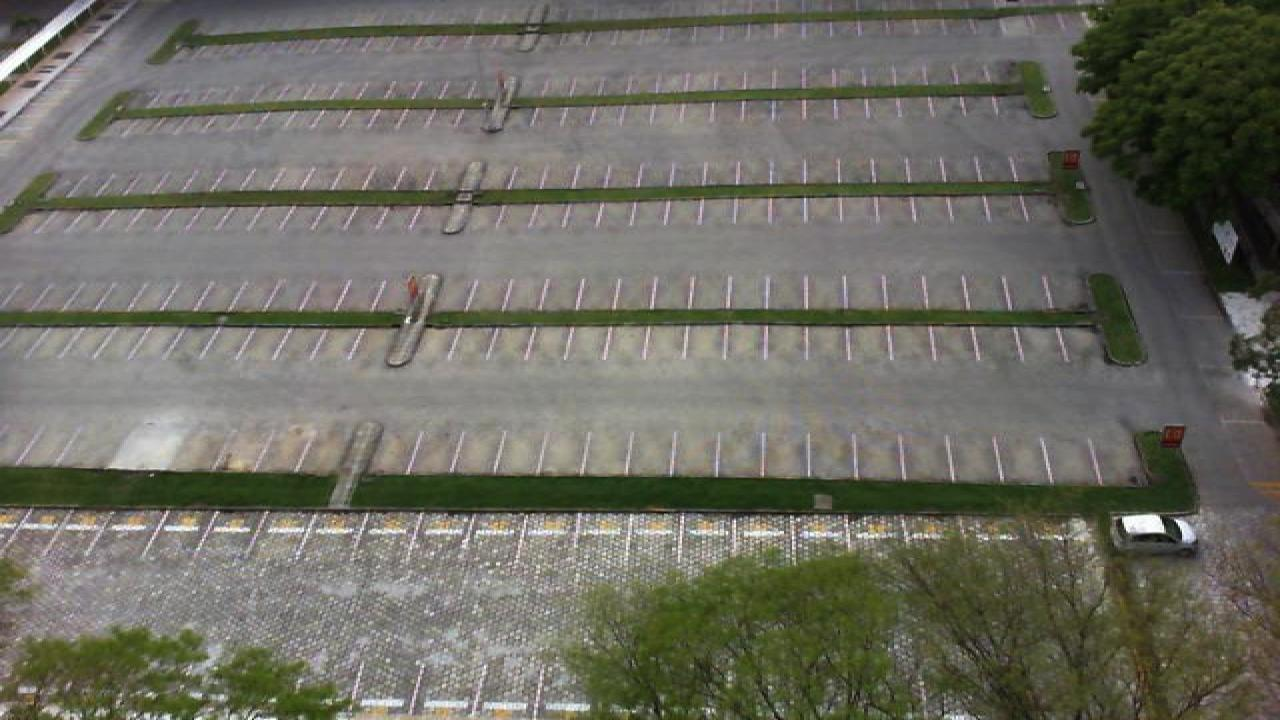Car: (1112, 513, 1198, 557)
